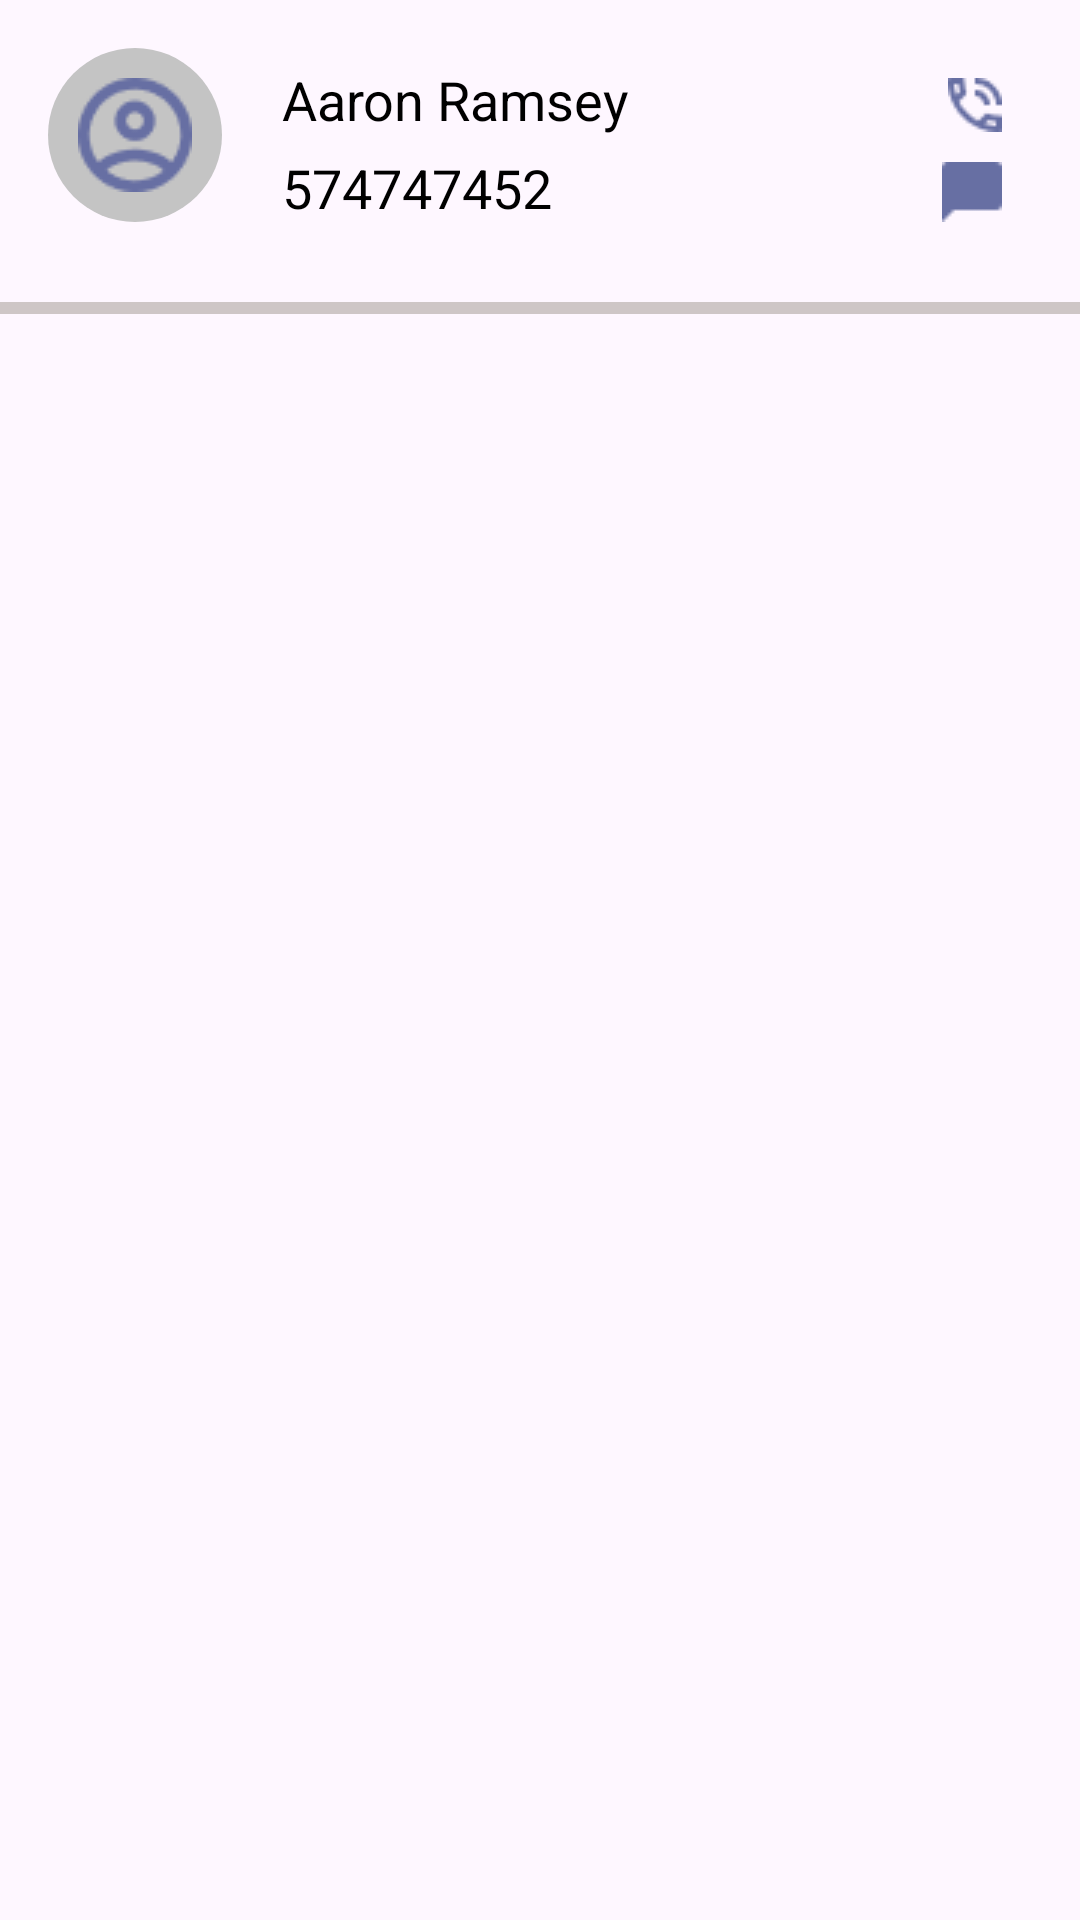

Icons on this 1080 x 1920 Android screen, each with the point to tap as (x,y):
call: (975,105)
contact: (135,135)
message: (972,192)
